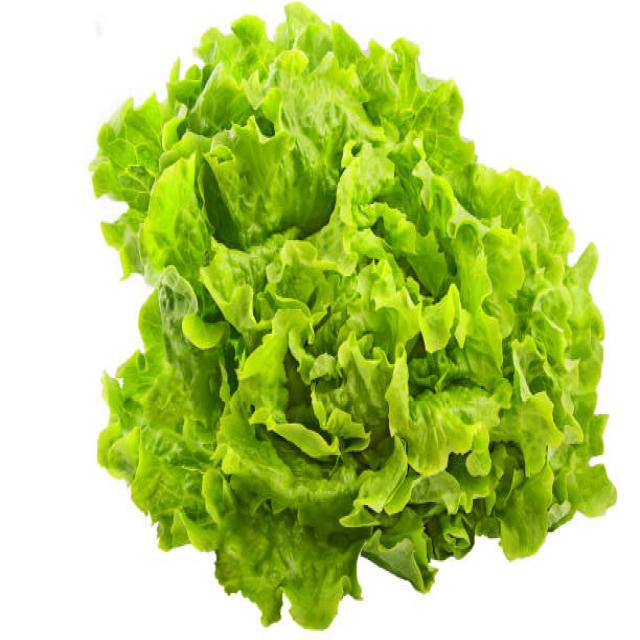Wet Waste: (92, 4, 617, 629)
